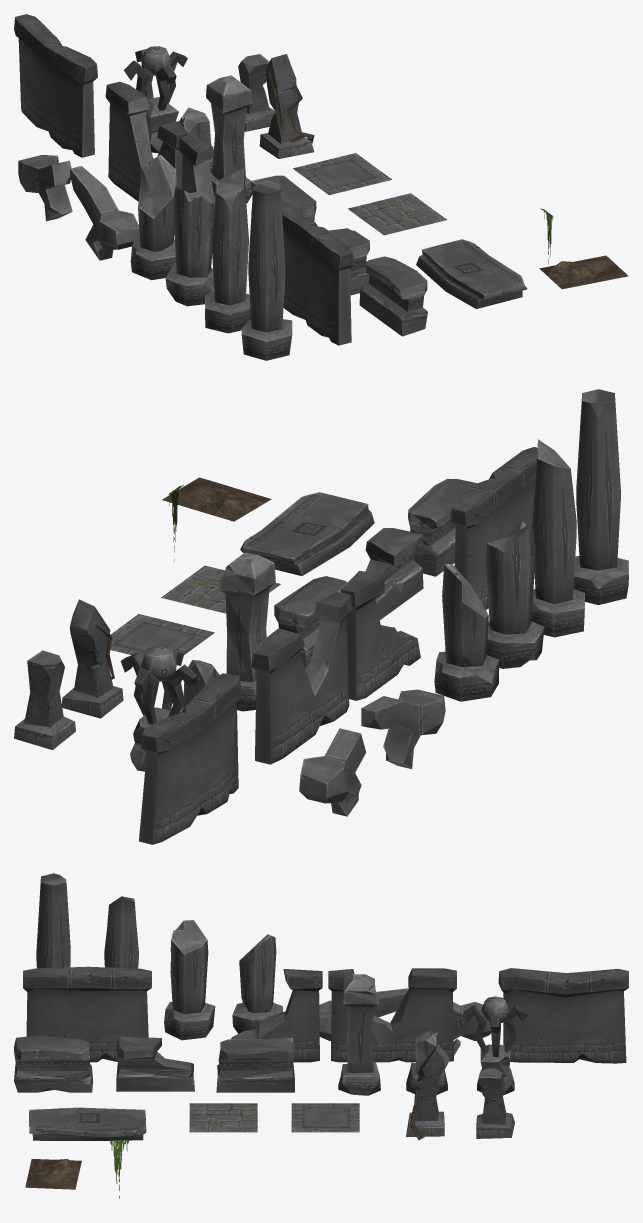
The model's file is ruins_01.FBX.
3 renders of one model, top to bottom at view 1: azimuth 30°, elevation 25°; view 2: azimuth 150°, elevation 25°; view 3: azimuth 270°, elevation 25°, orthographic. The views are drawn at different scales.
Parts seen in each view (by area): view 1: ruins_wall_001, ruins_wall_002, ruins_column_001, ruins_column_002, ruins_wall_003, ruins_step_001, ruins_column_004, ruins_column_003, ruins_wall_small_002, ruins_wall_pillar_001, ruins_entrance_001, ruins_column_top_001 (+10 smaller); view 2: ruins_wall_001, ruins_wall_003, ruins_column_001, ruins_column_002, ruins_wall_002, ruins_step_001, ruins_column_004, ruins_column_003, ruins_wall_004, ruins_wall_pillar_001, ruins_entrance_001, ruins_monument_001 (+10 smaller); view 3: ruins_wall_001, ruins_wall_002, ruins_wall_003, ruins_column_004, ruins_wall_small_002, ruins_wall_small_001, ruins_wall_004, ruins_step_001, ruins_wall_pillar_001, ruins_wall_small_003, ruins_column_003, ruins_column_001 (+10 smaller).
Part boxes in pixels (x1,y1,x2,y2): ruins_wall_001: (14, 14, 97, 157); ruins_wall_002: (281, 202, 354, 345); ruins_column_001: (241, 180, 292, 360); ruins_column_002: (205, 169, 250, 333); ruins_wall_003: (105, 81, 188, 201); ruins_step_001: (416, 239, 527, 308); ruins_column_004: (165, 187, 214, 306); ruins_column_003: (130, 154, 177, 280); ruins_wall_small_002: (359, 256, 427, 336); ruins_wall_pillar_001: (206, 75, 252, 203); ruins_entrance_001: (259, 54, 314, 158); ruins_column_top_001: (70, 166, 139, 260); ruins_wall_001: (139, 673, 241, 844); ruins_wall_003: (251, 592, 352, 764); ruins_column_001: (573, 389, 628, 604); ruins_column_002: (531, 439, 584, 637); ruins_wall_002: (450, 447, 537, 609); ruins_step_001: (240, 492, 374, 575); ruins_column_004: (486, 521, 544, 668); ruins_column_003: (434, 564, 499, 701); ruins_wall_004: (340, 571, 420, 700); ruins_wall_pillar_001: (219, 552, 275, 711); ruins_entrance_001: (61, 599, 123, 718); ruins_monument_001: (120, 646, 197, 771); ruins_wall_001: (498, 968, 628, 1063); ruins_wall_002: (23, 966, 151, 1062); ruins_wall_003: (328, 968, 456, 1062); ruins_column_004: (164, 920, 215, 1040); ruins_wall_small_002: (14, 1035, 93, 1092); ruins_wall_small_001: (216, 1038, 294, 1092); ruins_wall_004: (231, 969, 322, 1062); ruins_step_001: (29, 1107, 146, 1140); ruins_wall_pillar_001: (338, 974, 380, 1095); ruins_wall_small_003: (116, 1036, 194, 1091); ruins_column_003: (232, 934, 282, 1033); ruins_column_001: (36, 873, 70, 968).
Bounding box in the file's own units: 467 × 237 × 712.
